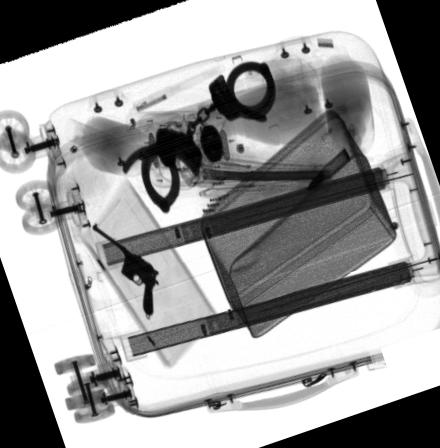Bullet: (303, 146, 349, 194)
Gun: (91, 224, 157, 316)
HandCuffs: (117, 60, 276, 214)
